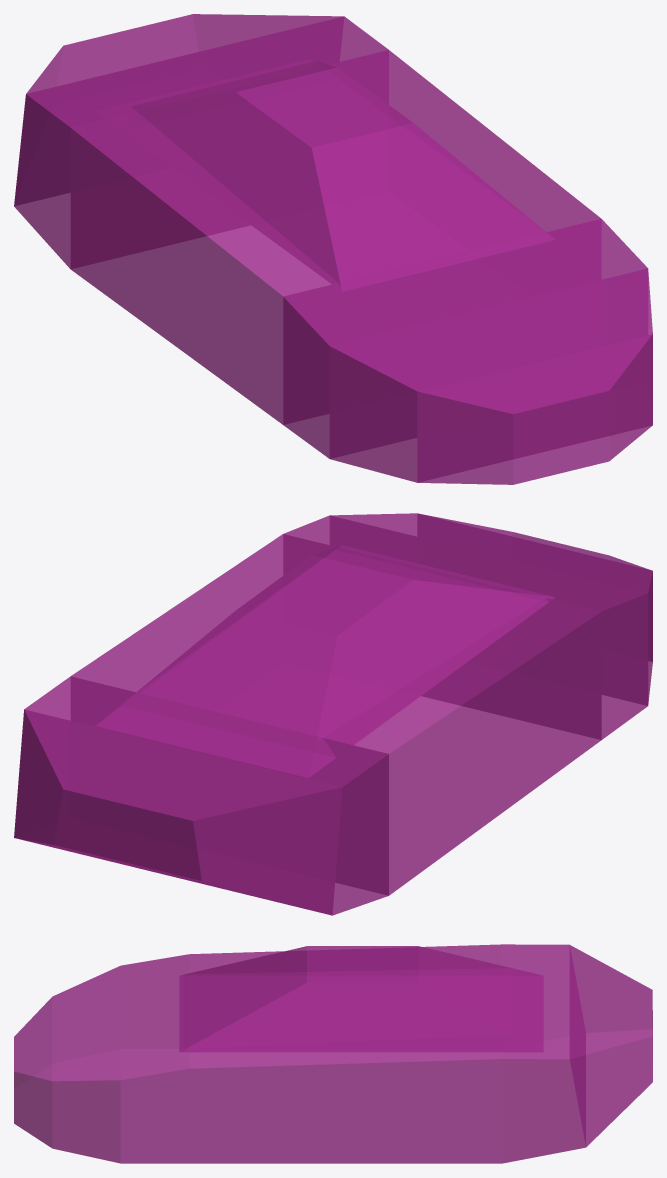
The model's file is SM_Veh_Supercar_02_Collision.fbx.
3 views of the same model, one above another, from view 1: azimuth 30°, elevation 25°; view 2: azimuth 150°, elevation 25°; view 3: azimuth 270°, elevation 25° (orthographic). The views are drawn at different scales.
Visible parts, largest first — view 1: SM_Veh_Supercar_02_Collision; view 2: SM_Veh_Supercar_02_Collision; view 3: SM_Veh_Supercar_02_Collision.
Part boxes in pixels (bbox=[...]): SM_Veh_Supercar_02_Collision: bbox=[14, 14, 652, 484]; SM_Veh_Supercar_02_Collision: bbox=[14, 513, 652, 915]; SM_Veh_Supercar_02_Collision: bbox=[14, 944, 652, 1163].
Bounding box in the file's own units: 234 × 135 × 550.
